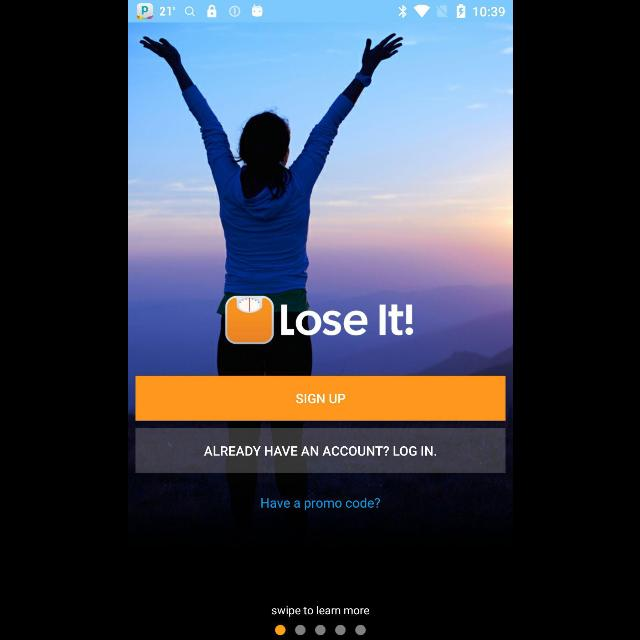backgroundimage: (128, 22, 512, 640)
image: (224, 296, 274, 344)
pageindicator: (274, 624, 366, 636)
text: (281, 304, 414, 336), (260, 498, 380, 510), (271, 605, 369, 617)
textbutton: (134, 375, 506, 421), (135, 428, 505, 474)
uppertaskbar: (128, 1, 512, 23)
